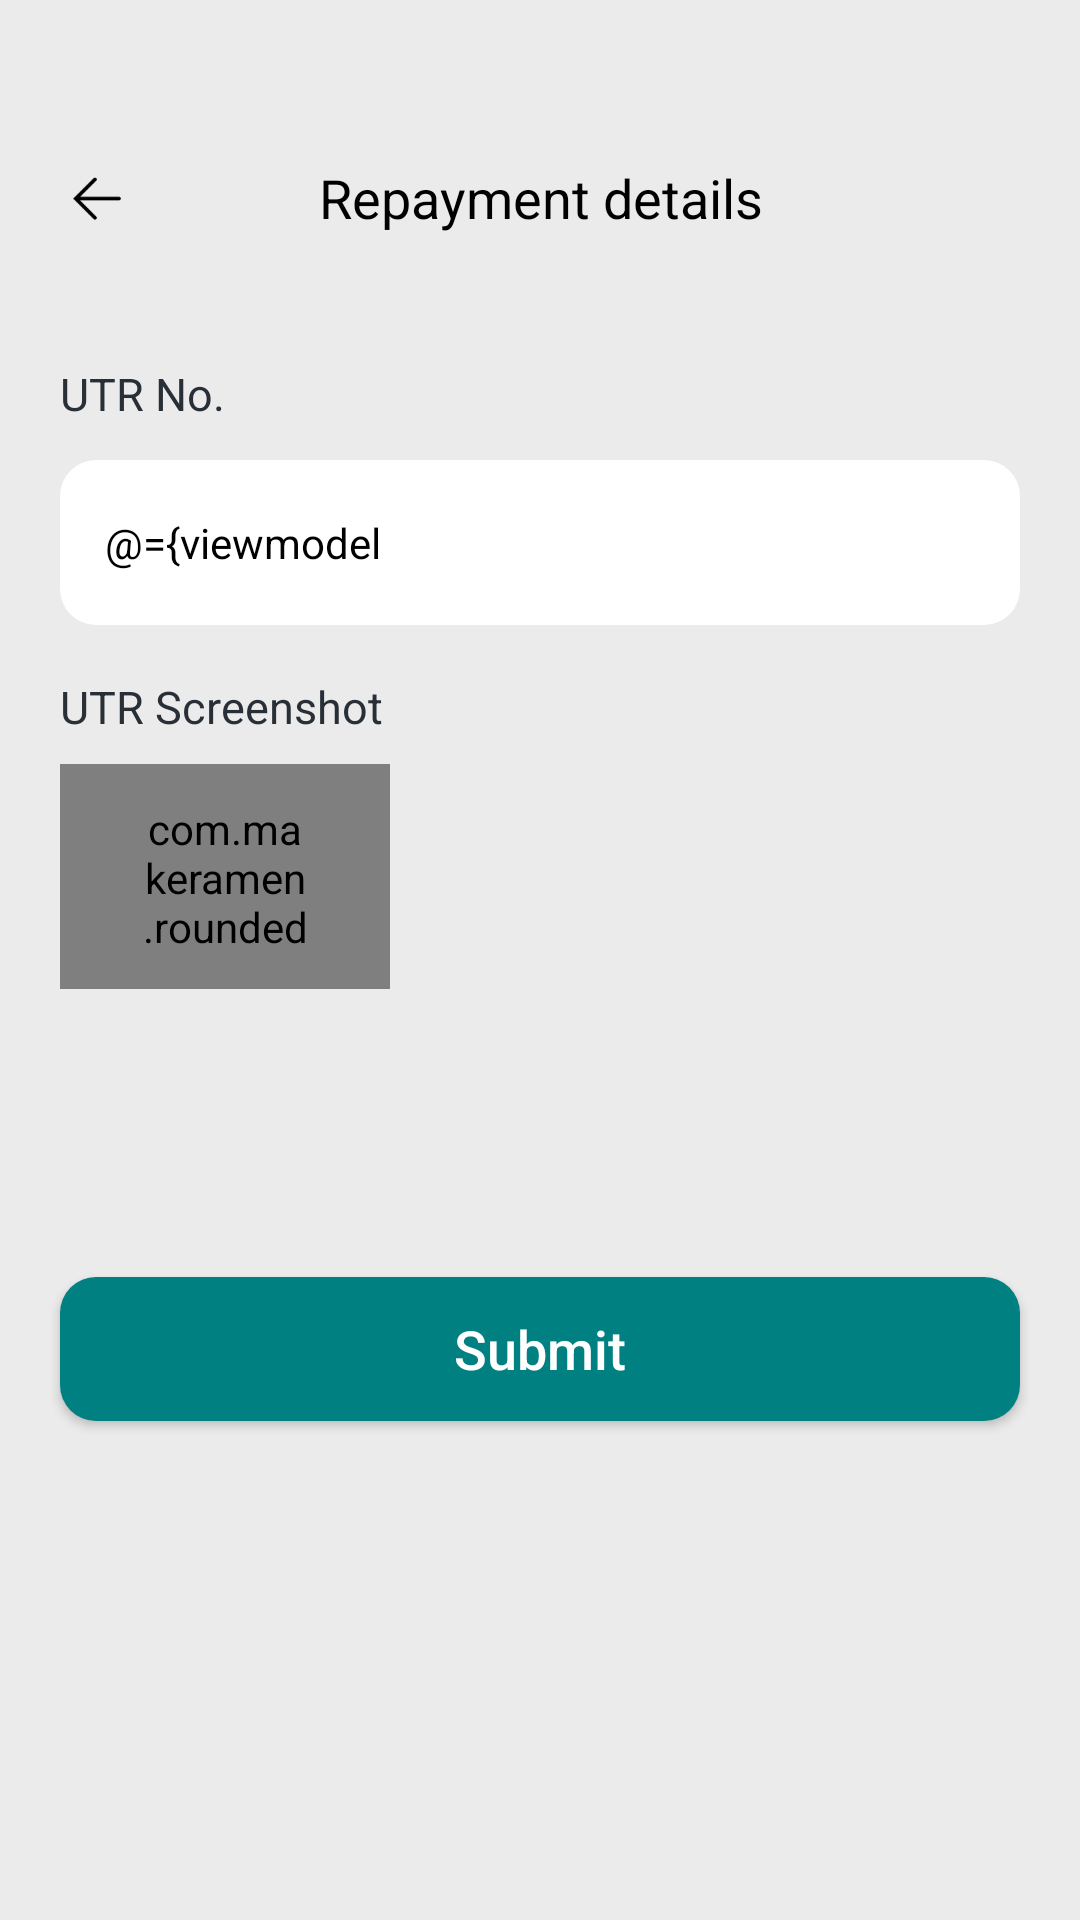

Screen size 1080×1920. Icon name, then its box in pixels as detection(x1, y1, x2, y2):
back: detection(73, 177, 121, 220)
